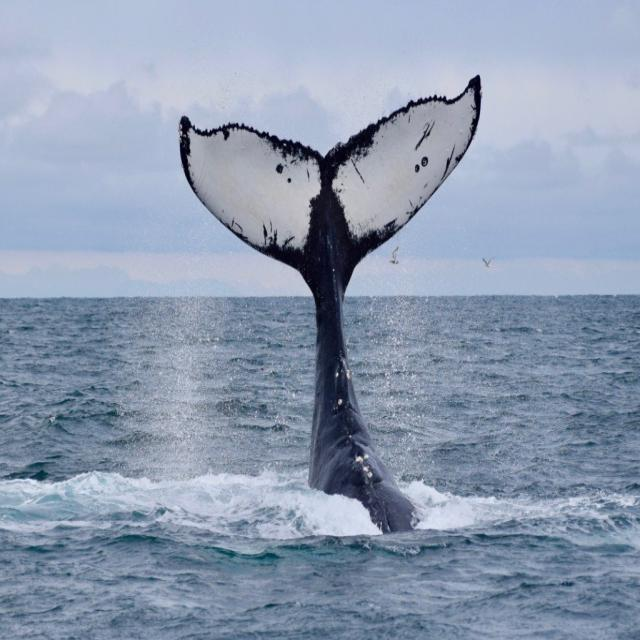whale: (178, 76, 482, 532)
